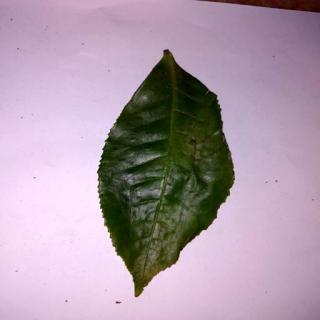Bird Eye Spot: (100, 51, 237, 299)
